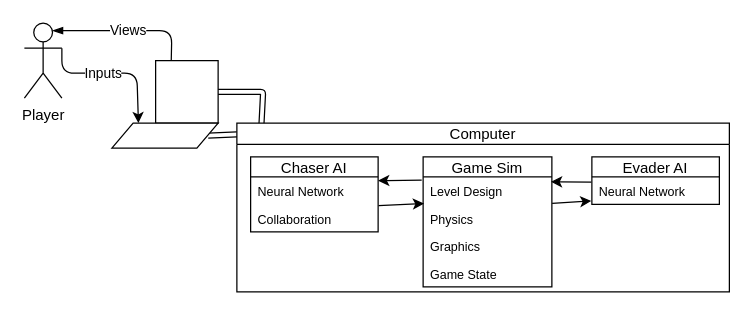
This 751x314 diagram has some shape labels left out. The shapes that lost their labels are listed below. From the top down, each one's centre as x and y in pixels, then its label:
At pixel 186 91: "Game Screen 1".
At pixel 164 135: "Keyboard".
